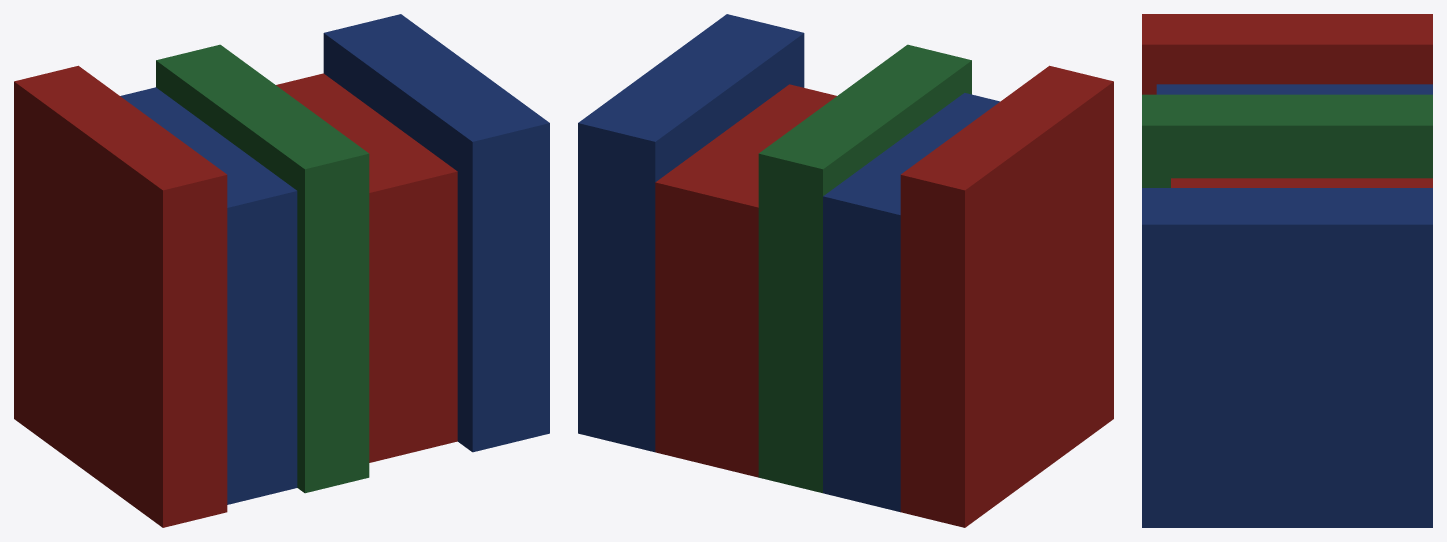
The model's file is books.obj.
3 renders of one model, left to right at view 1: azimuth 30°, elevation 25°; view 2: azimuth 150°, elevation 25°; view 3: azimuth 270°, elevation 25°, orthographic. The views are drawn at different scales.
Visible parts, largest first — view 1: Book_1, Book_5, Book_3, Book_4, Book_2; view 2: Book_1, Book_5, Book_4, Book_3, Book_2; view 3: Book_5, Book_3, Book_1, Book_2, Book_4.
Part boxes in pixels (<box>): Book_1: <box>14,65,227,527</box>; Book_5: <box>323,14,549,452</box>; Book_3: <box>156,44,369,493</box>; Book_4: <box>276,73,457,462</box>; Book_2: <box>120,87,297,504</box>; Book_1: <box>900,65,1113,527</box>; Book_5: <box>578,14,804,452</box>; Book_4: <box>655,84,836,477</box>; Book_3: <box>758,44,971,493</box>; Book_2: <box>823,93,999,512</box>; Book_5: <box>1142,188,1432,527</box>; Book_3: <box>1142,94,1432,187</box>; Book_1: <box>1142,14,1432,94</box>; Book_2: <box>1156,84,1432,94</box>; Book_4: <box>1171,178,1432,187</box>.
Bounding box in the file's own units: 0.3 × 0.25 × 0.2.
